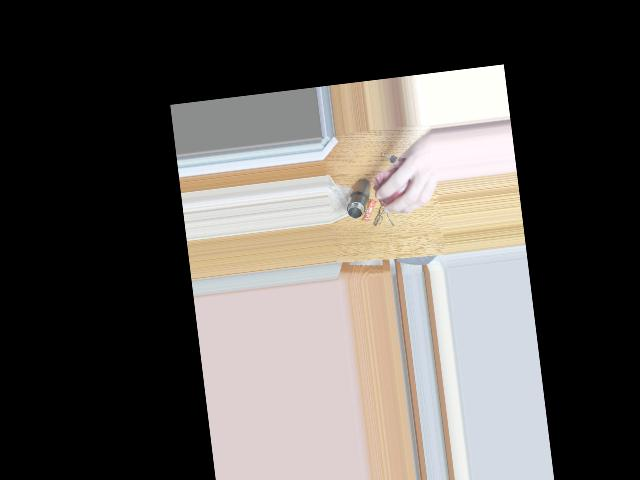onion: (379, 159, 417, 208)
